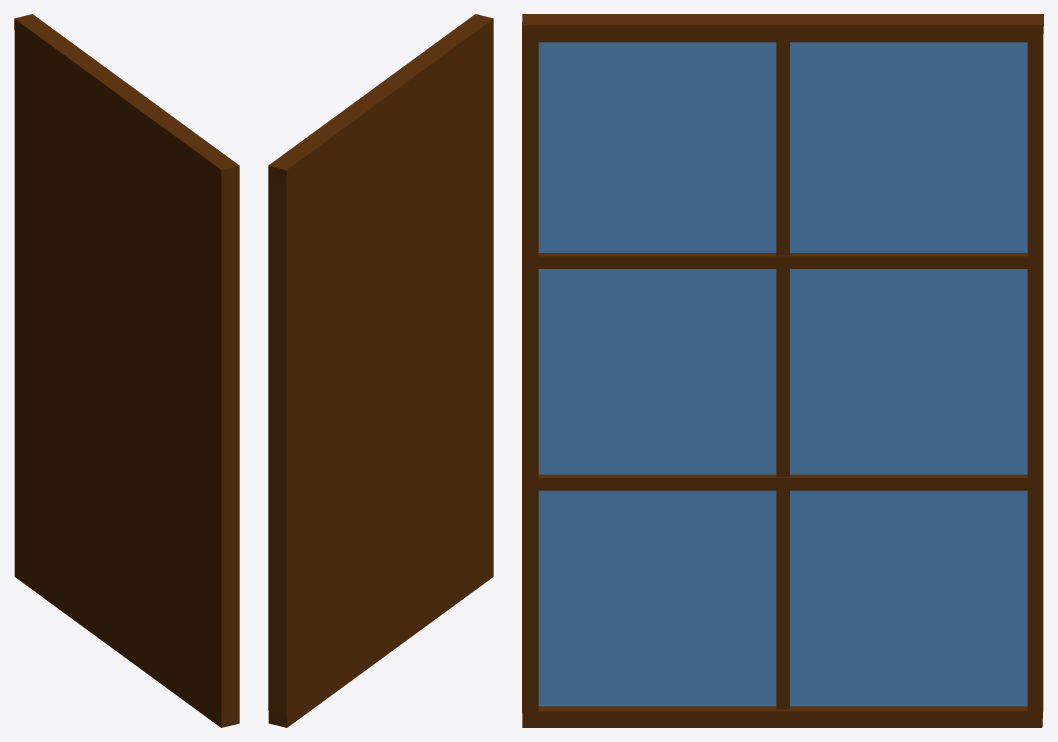
File: window_long.dae
The picture shows the model from 3 angles, left to right: view 1: azimuth 30°, elevation 25°; view 2: azimuth 150°, elevation 25°; view 3: azimuth 270°, elevation 25°; orthographic projection. The views are drawn at different scales.
Visible parts, largest first — view 1: Cube; view 2: Cube; view 3: Cube.
Boxes of the visible parts, x1,y1,x2,y2 form: Cube: [14, 14, 239, 727]; Cube: [268, 14, 493, 727]; Cube: [522, 14, 1043, 727].
Bounding box in the file's own units: 0.1088 × 2.13 × 3.17.
